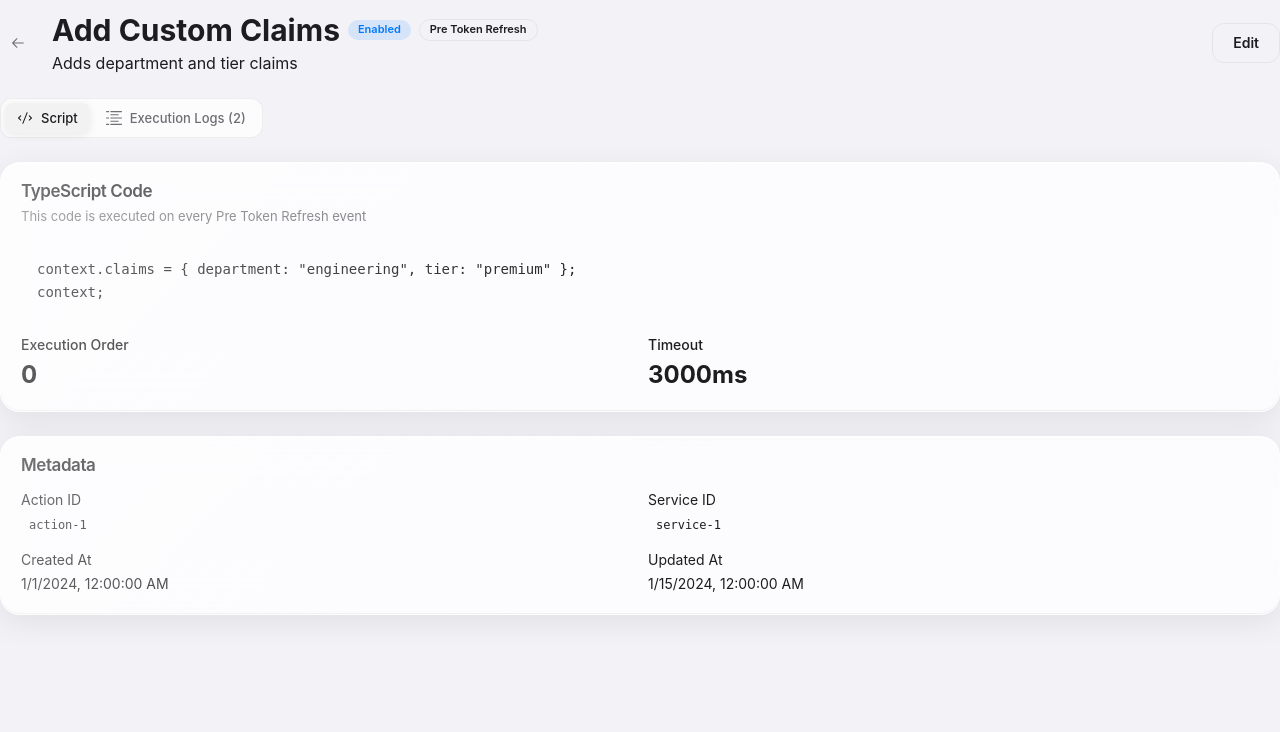
Test: Action Detail Page › renders execution logs in Logs tab
Expected: the heading "Add Custom Claims" is shown, x1=52 y1=12 x2=340 y2=48
Click the Logs tab by text
Click the tab "Execution Logs (2)".
click(176, 118)  # box x1=94 y1=103 x2=258 y2=134
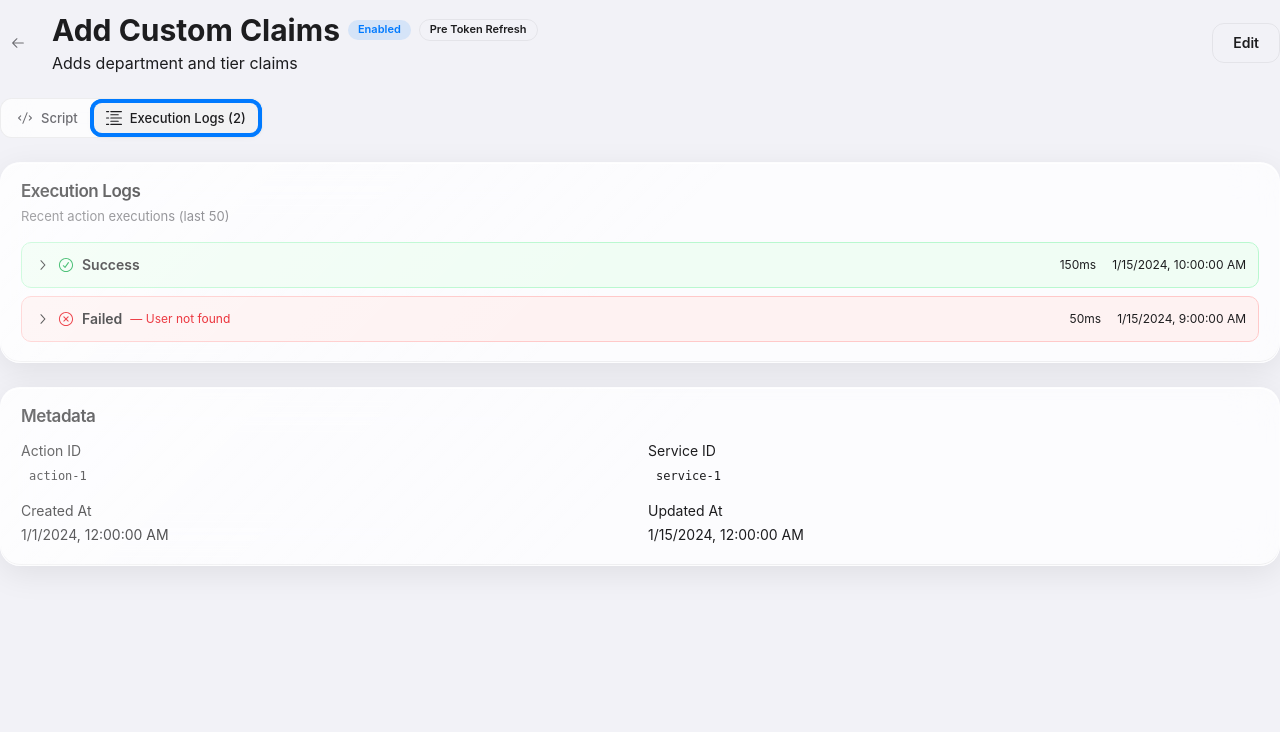
Result: the text "Success" is shown at x1=82 y1=255 x2=140 y2=275
Result: the text "Failed" is shown at x1=82 y1=309 x2=122 y2=329
Result: the text "150ms" is shown at x1=1060 y1=257 x2=1096 y2=273
